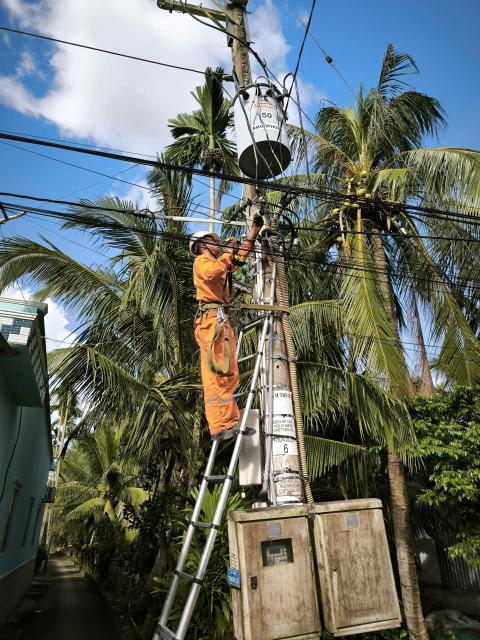gloves: (238, 205, 264, 268), (219, 209, 235, 275)
harness: (173, 292, 242, 332)
helmet: (173, 215, 220, 258)
shoes: (222, 423, 266, 447), (195, 420, 233, 442)
